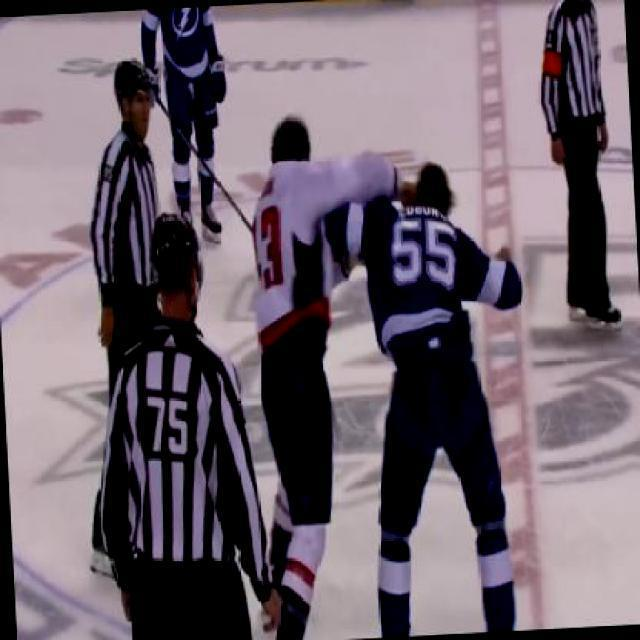fight: (242, 101, 538, 638)
